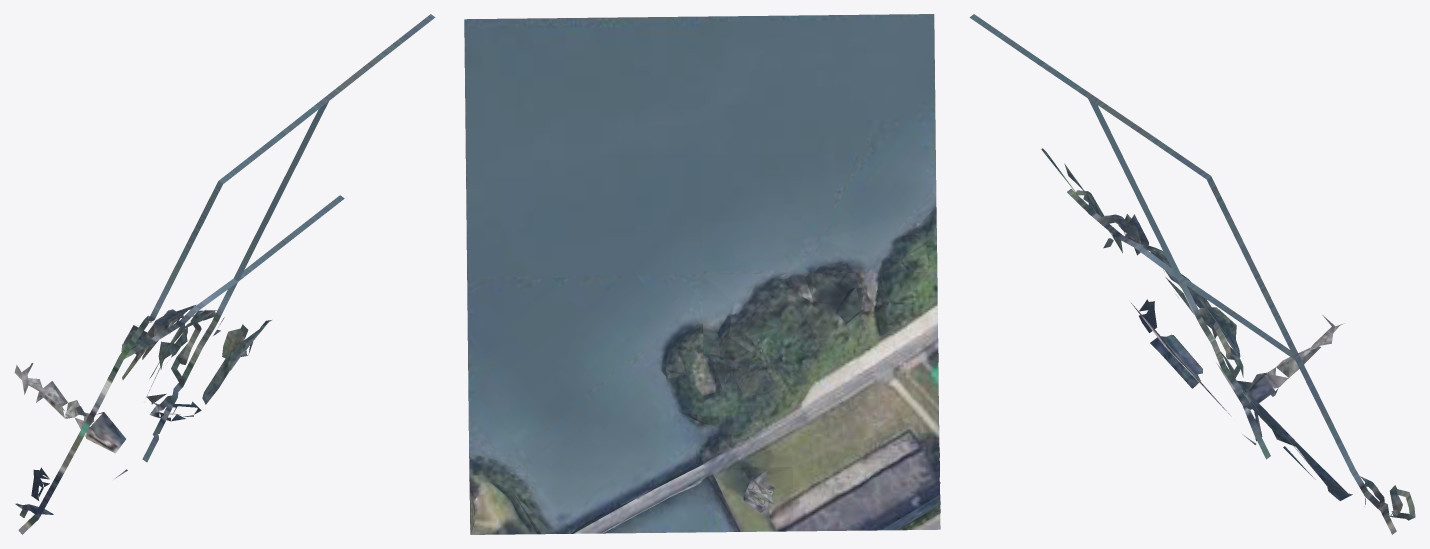
3 views of the same model, side by side, from view 1: azimuth 30°, elevation 25°; view 2: azimuth 150°, elevation 25°; view 3: azimuth 270°, elevation 25° (orthographic). The views are drawn at different scales.
Size of the model in its own units: 156 by 139 by 137.
1 material, 1 textured.
